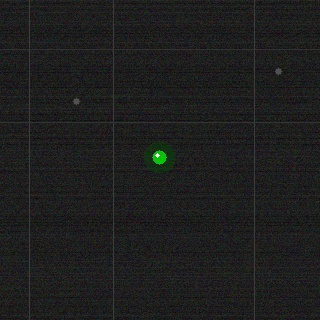green_normal: (150, 148, 168, 166)
